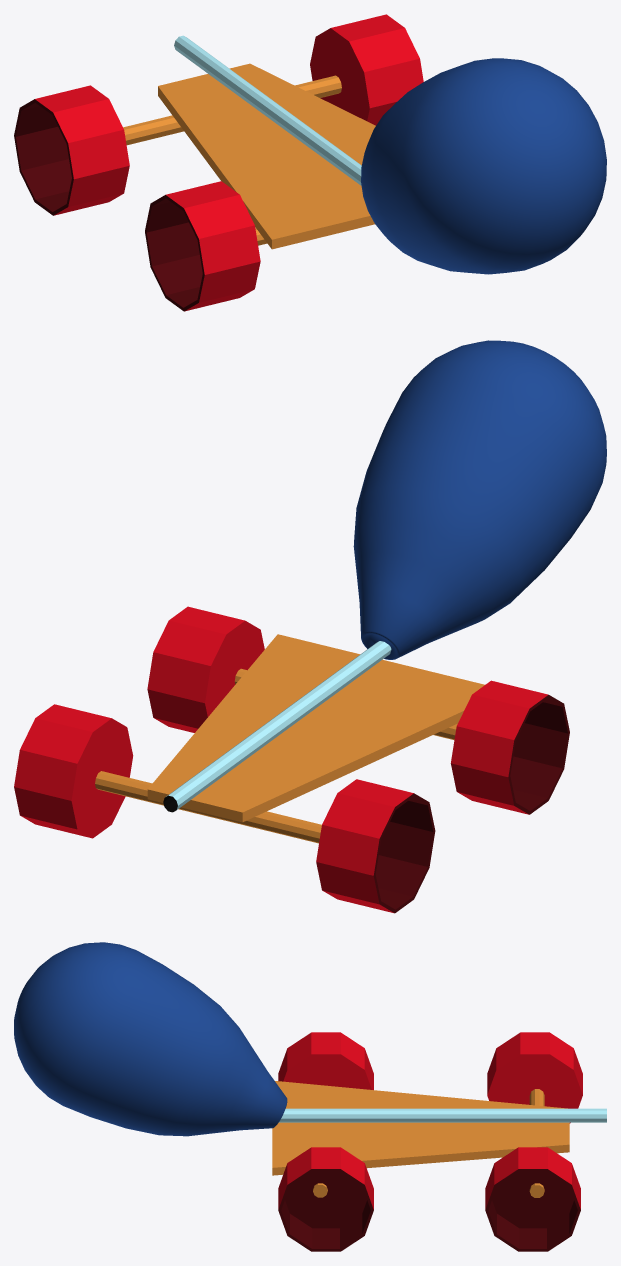
File: rocket_car.glb
3 views of the same model, one above another, from view 1: azimuth 30°, elevation 25°; view 2: azimuth 150°, elevation 25°; view 3: azimuth 270°, elevation 25° (orthographic). The views are drawn at different scales.
Visible parts, largest first — view 1: Cilindro.006; view 2: Cilindro.006; view 3: Cilindro.006.
Boxes of the visible parts, x1,y1,x2,y2 form: Cilindro.006: (14, 14, 606, 311); Cilindro.006: (14, 340, 606, 913); Cilindro.006: (14, 942, 606, 1251).
Bounding box in the file's own units: 0.1582 × 0.1274 × 0.2901.
